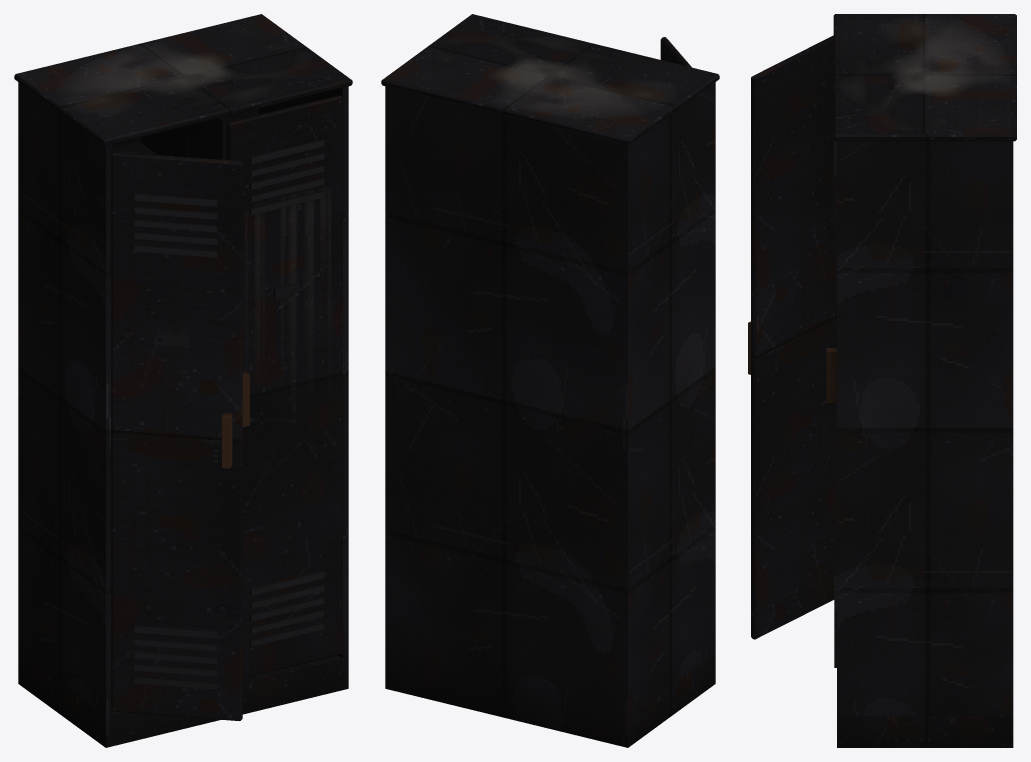
File: locker.glb
The picture shows the model from 3 angles, left to right: view 1: azimuth 30°, elevation 25°; view 2: azimuth 150°, elevation 25°; view 3: azimuth 270°, elevation 25°; orthographic projection.
Visible parts, largest first — view 1: body, decals; view 2: body, decals; view 3: body, decals.
Boxes of the visible parts, bbox=[...] form: body: bbox=[14, 14, 352, 747]; decals: bbox=[69, 49, 330, 326]; body: bbox=[381, 14, 719, 747]; decals: bbox=[496, 58, 657, 114]; body: bbox=[748, 14, 1016, 747]; decals: bbox=[892, 23, 1000, 94].
Size of what is drawn, in the model's own units: 0.82 by 1.92 by 0.7624.
8 materials, 5 textured.
